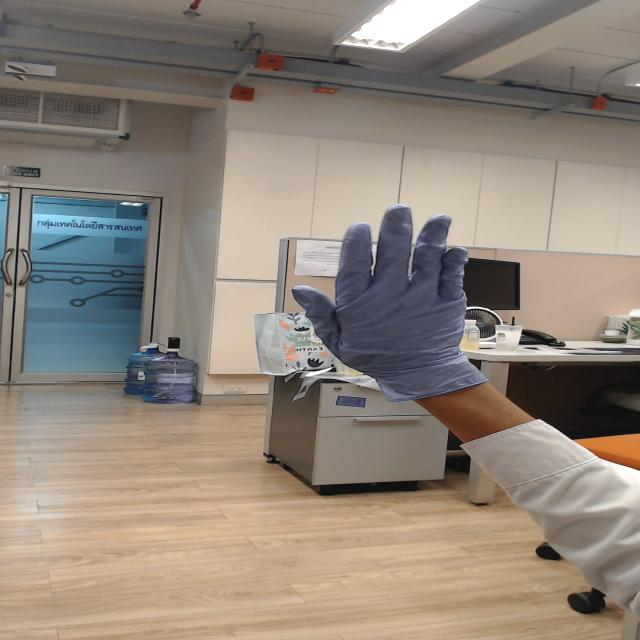glove: (266, 203, 494, 375)
